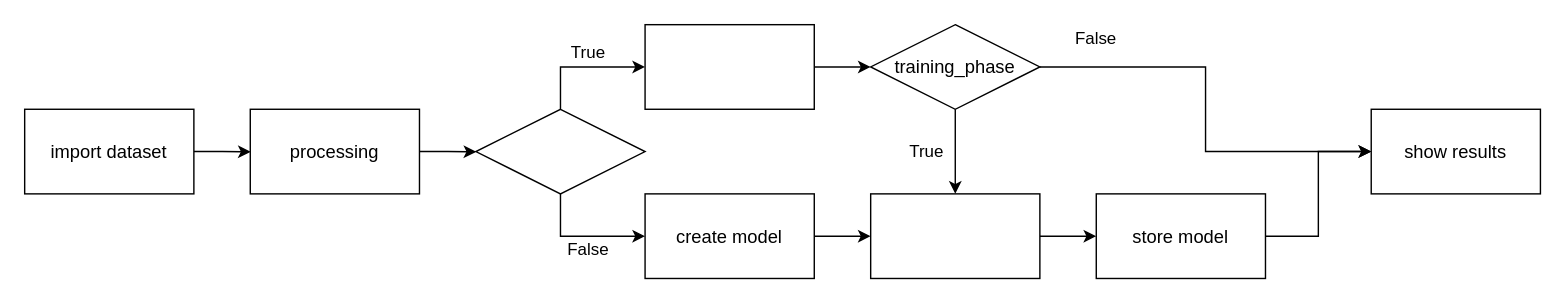
Some shapes in this 1565 by 303 pixel diagram are drawn without their labels. Each missing label, with the box of its shape:
load model: (644, 23, 814, 109)
train model: (869, 192, 1040, 278)
use_pretrained: (474, 108, 645, 194)
